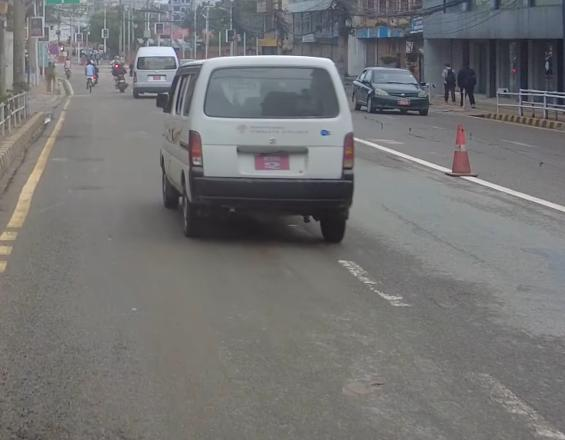car: (351, 62, 431, 119)
van: (149, 55, 378, 249), (132, 44, 184, 100)
